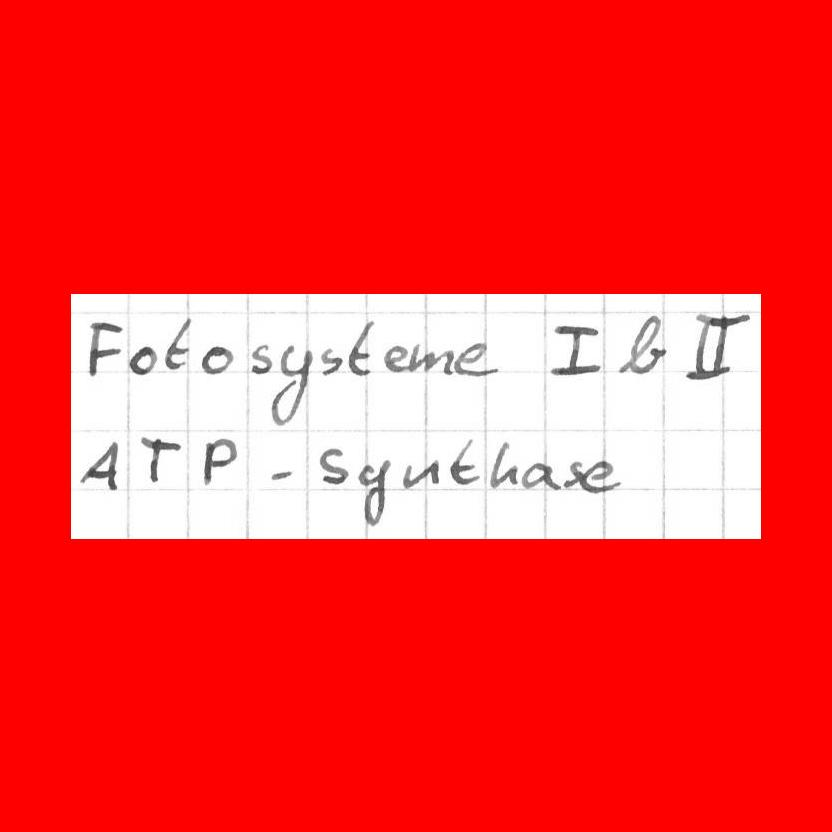Char: (683, 311, 751, 381), (270, 344, 313, 428), (615, 312, 668, 374), (547, 322, 604, 376), (355, 458, 392, 528), (84, 317, 124, 380), (137, 433, 183, 487), (77, 438, 122, 493), (200, 434, 240, 488), (452, 339, 500, 380), (161, 316, 193, 372), (488, 438, 522, 490), (408, 338, 453, 377), (448, 435, 482, 486), (346, 317, 375, 376), (579, 455, 622, 493), (401, 457, 444, 491), (520, 459, 562, 492), (317, 445, 351, 485), (199, 341, 234, 376), (127, 343, 159, 377), (249, 341, 276, 377), (317, 344, 346, 376), (381, 343, 410, 374), (562, 457, 584, 490), (268, 466, 295, 484)
